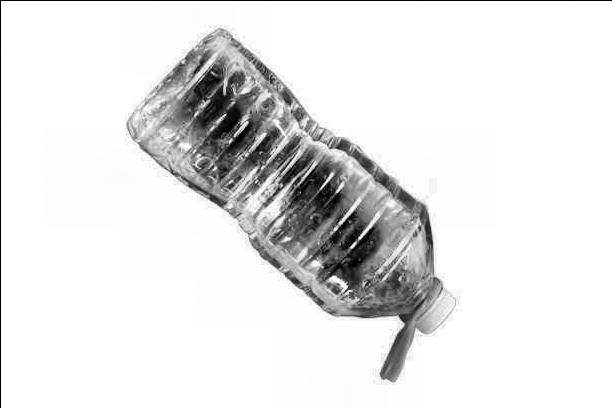waterbottle: (89, 18, 524, 393)
